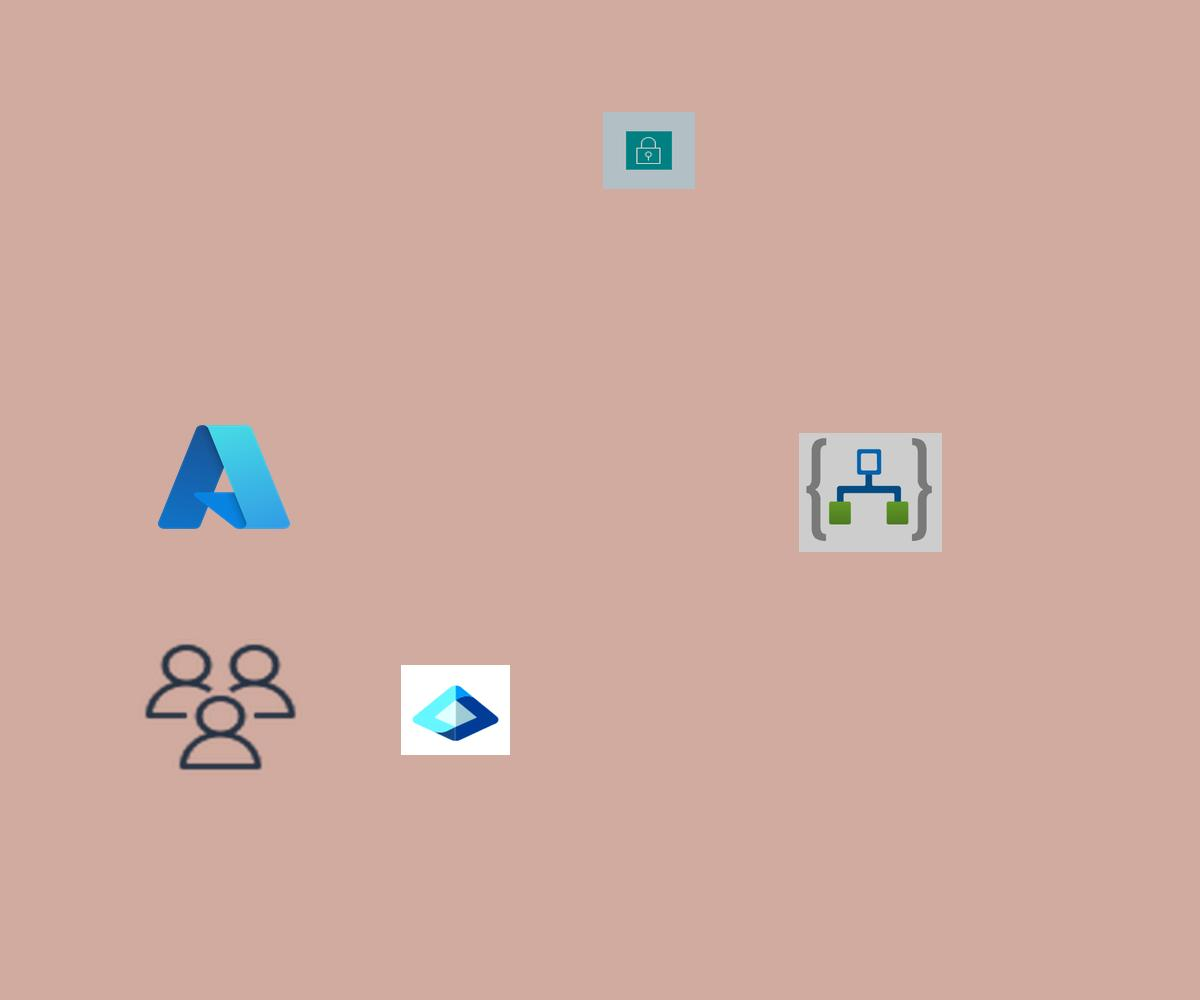AWS-Private-subnet: (603, 112, 695, 189)
AWS-Res_Users: (139, 639, 302, 775)
Azure_integration-204-Logic-Apps: (799, 433, 942, 552)
Azure_microsoft_entra: (401, 665, 510, 755)
Azure_services: (152, 417, 296, 537)
